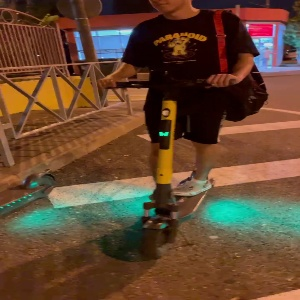human on a scooter: (96, 1, 271, 261)
